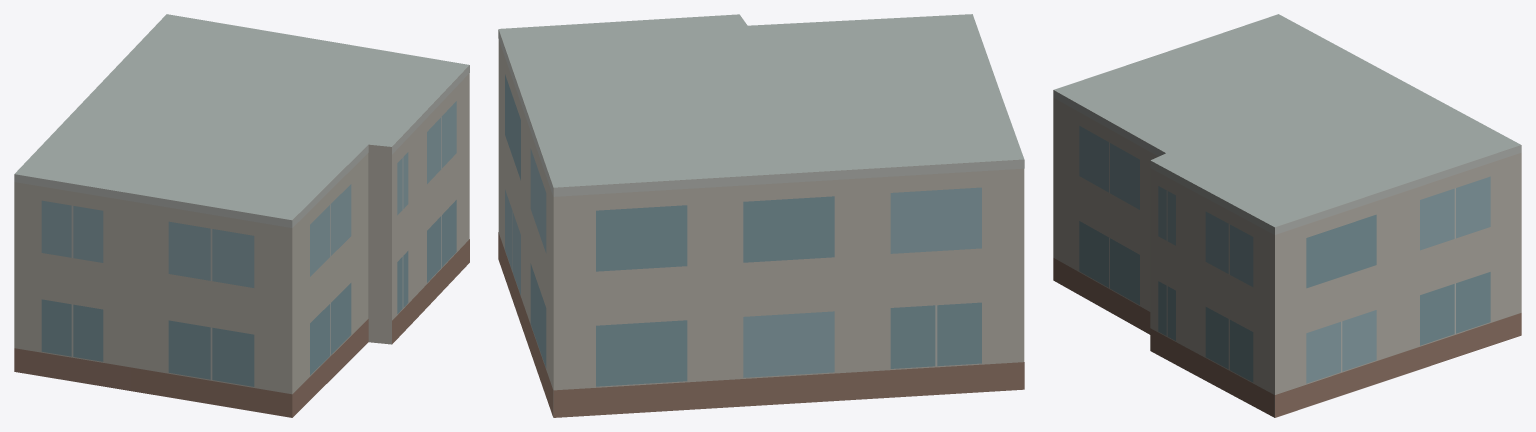
The model's file is survey-upis-32982517.glb.
3 renders of one model, left to right at view 1: azimuth 30°, elevation 25°; view 2: azimuth 150°, elevation 25°; view 3: azimuth 270°, elevation 25°, orthographic. The views are drawn at different scales.
Parts seen in each view (by area): view 1: survey-upis-32982517.tmp; view 2: survey-upis-32982517.tmp; view 3: survey-upis-32982517.tmp.
Boxes of the visible parts, x1=… form: survey-upis-32982517.tmp: x1=14, y1=14, x2=469, y2=417; survey-upis-32982517.tmp: x1=498, y1=14, x2=1024, y2=417; survey-upis-32982517.tmp: x1=1053, y1=14, x2=1521, y2=417.
Size of the model in its own units: 14.66 by 6.1 by 13.59.
